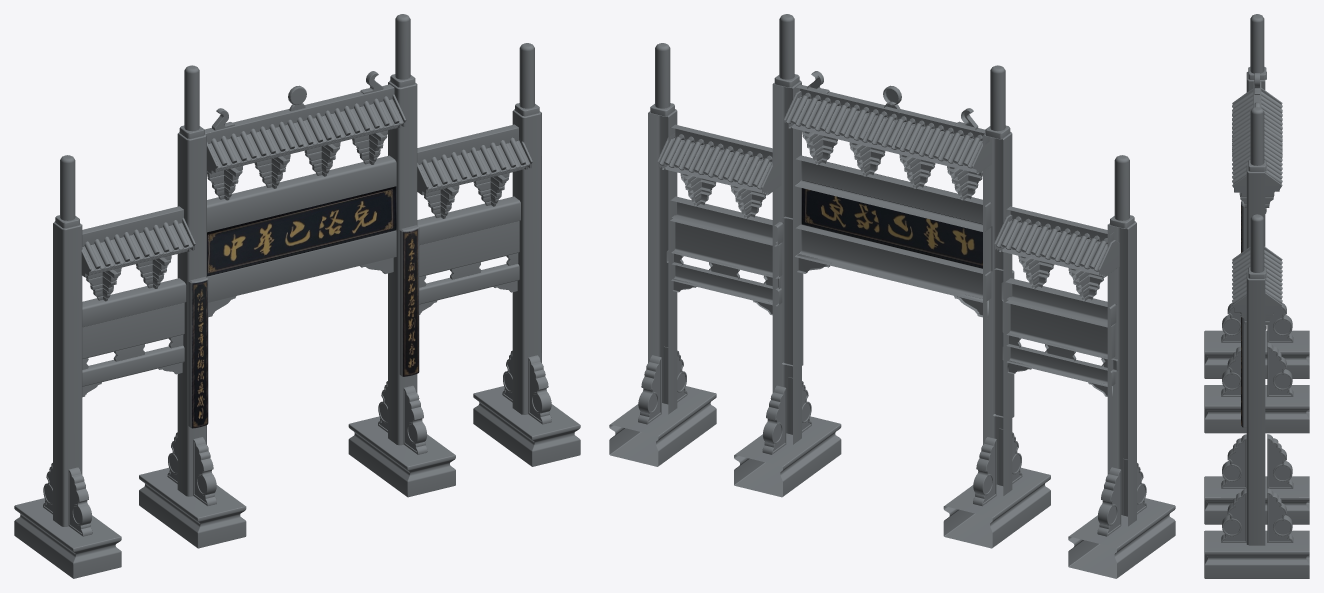
File: ZhongHuaBaLuoKe.fbx
3 views of the same model, side by side, from view 1: azimuth 30°, elevation 25°; view 2: azimuth 150°, elevation 25°; view 3: azimuth 270°, elevation 25° (orthographic). The views are drawn at different scales.
Parts seen in each view (by area): view 1: Zhonghuabaluoke; view 2: Zhonghuabaluoke; view 3: Zhonghuabaluoke.
Part boxes in pixels (x1,y1,x2,y2): Zhonghuabaluoke: (14,14,580,578); Zhonghuabaluoke: (609,14,1175,578); Zhonghuabaluoke: (1204,14,1309,578).
Size of the model in its own units: 132 by 113 by 26.47.
Materials: 1 (1 with a texture image).
